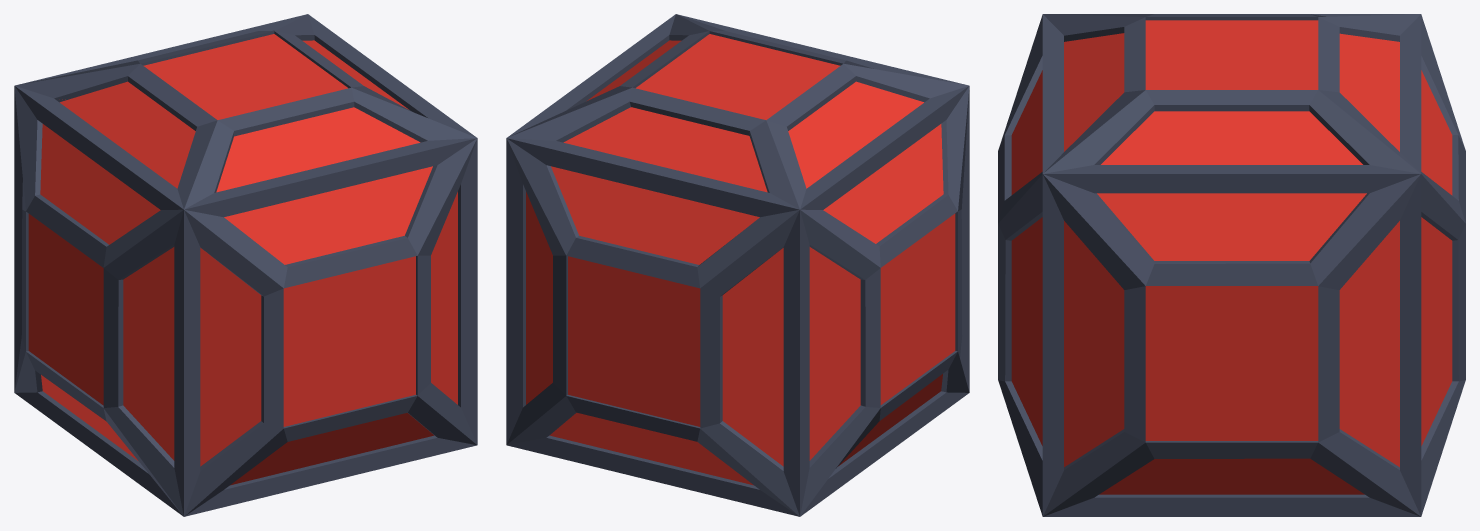
Rendered from CubeRed.fbx.
3 views of the same model, side by side, from view 1: azimuth 30°, elevation 25°; view 2: azimuth 150°, elevation 25°; view 3: azimuth 270°, elevation 25° (orthographic). The views are drawn at different scales.
Parts seen in each view (by area): view 1: Cube; view 2: Cube; view 3: Cube.
Boxes of the visible parts, x1=… form: Cube: x1=14, y1=14, x2=477, y2=516; Cube: x1=506, y1=14, x2=969, y2=516; Cube: x1=998, y1=14, x2=1465, y2=516.
Size of the model in its own units: 247 by 247 by 247.
